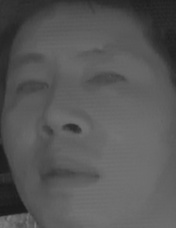eye: (85, 67, 127, 93), (11, 76, 50, 100)
mouth: (32, 151, 101, 196)
